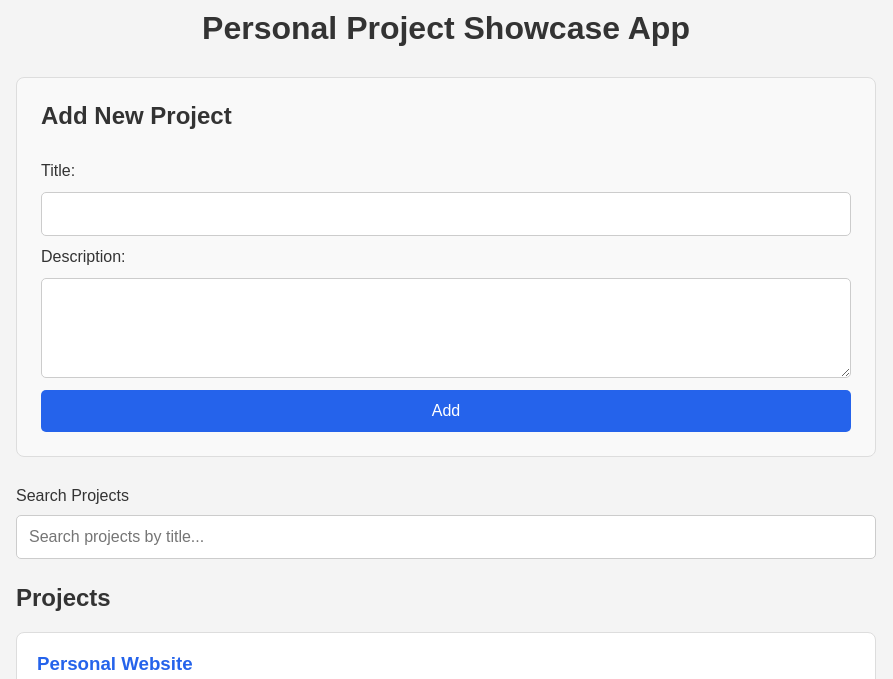
filters projects by title
In the field labelled "Search Projects": (446, 537) [16, 515, 876, 559], type "weather"
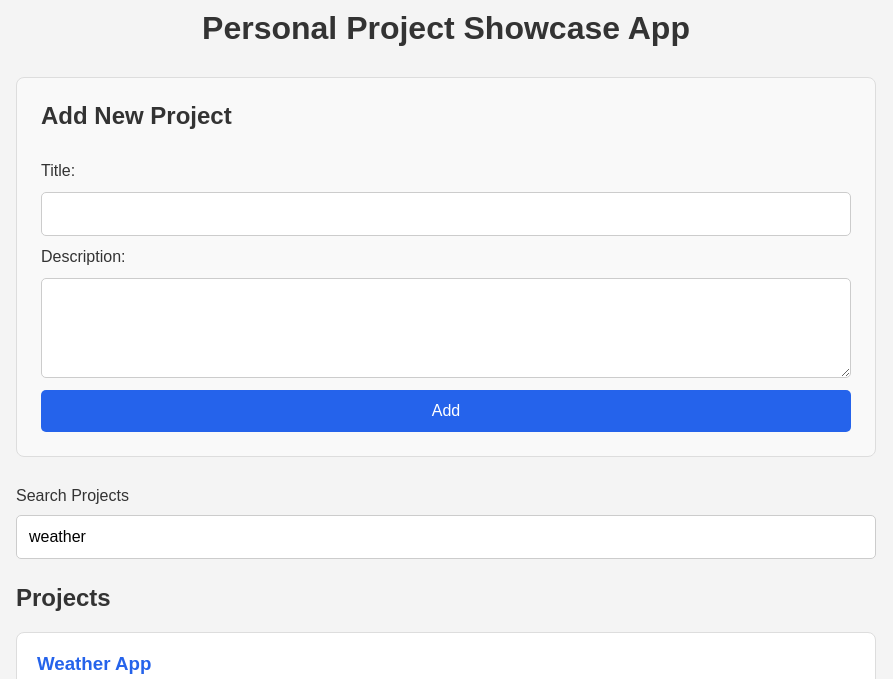
Expected: the heading "Weather App" is shown, [37, 653, 151, 674]
Expected: the heading "Personal Website" is gone
